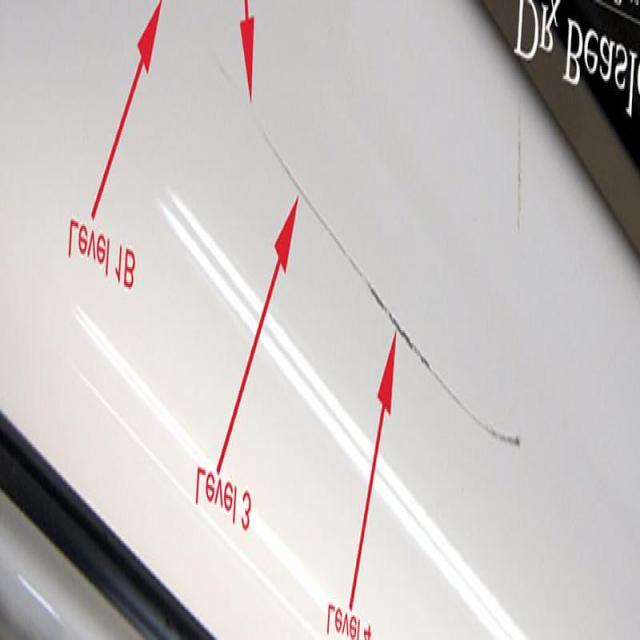scratch: (252, 112, 530, 452)
